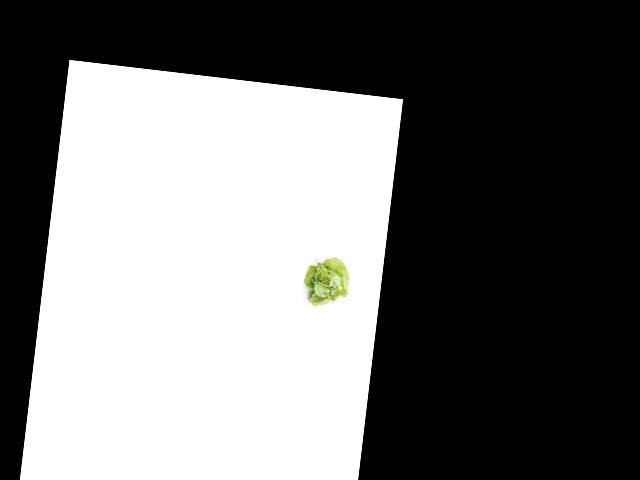lettuce: (298, 253, 356, 311)
